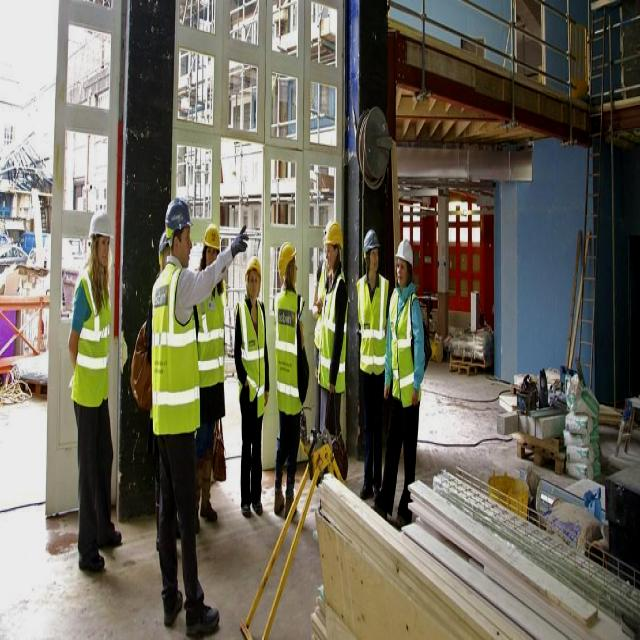face_nomask: (172, 224, 195, 274), (94, 233, 115, 267), (397, 255, 409, 289), (324, 243, 340, 266), (368, 250, 381, 278), (248, 269, 261, 297)
hand_glove: (226, 222, 252, 268)
hand_noglove: (411, 381, 421, 411), (383, 375, 391, 401)
head_helmet: (165, 197, 194, 245), (88, 207, 114, 241), (276, 239, 298, 278), (324, 222, 345, 252), (204, 222, 222, 255), (362, 228, 382, 255), (396, 239, 414, 269), (244, 256, 262, 282)
person: (151, 204, 220, 634), (68, 209, 119, 576), (376, 237, 424, 521), (270, 246, 309, 520), (193, 225, 226, 532), (353, 225, 388, 500), (238, 257, 268, 521), (316, 219, 349, 448)
shoes: (184, 598, 223, 640), (75, 536, 107, 580), (161, 584, 187, 627), (199, 497, 219, 527), (358, 475, 375, 500), (273, 484, 285, 518), (251, 492, 266, 519), (240, 495, 252, 520)
vest: (153, 262, 200, 436), (69, 262, 113, 410), (389, 283, 422, 403), (274, 285, 305, 411), (320, 272, 350, 390), (236, 300, 267, 414), (359, 269, 391, 372), (196, 282, 227, 386)
